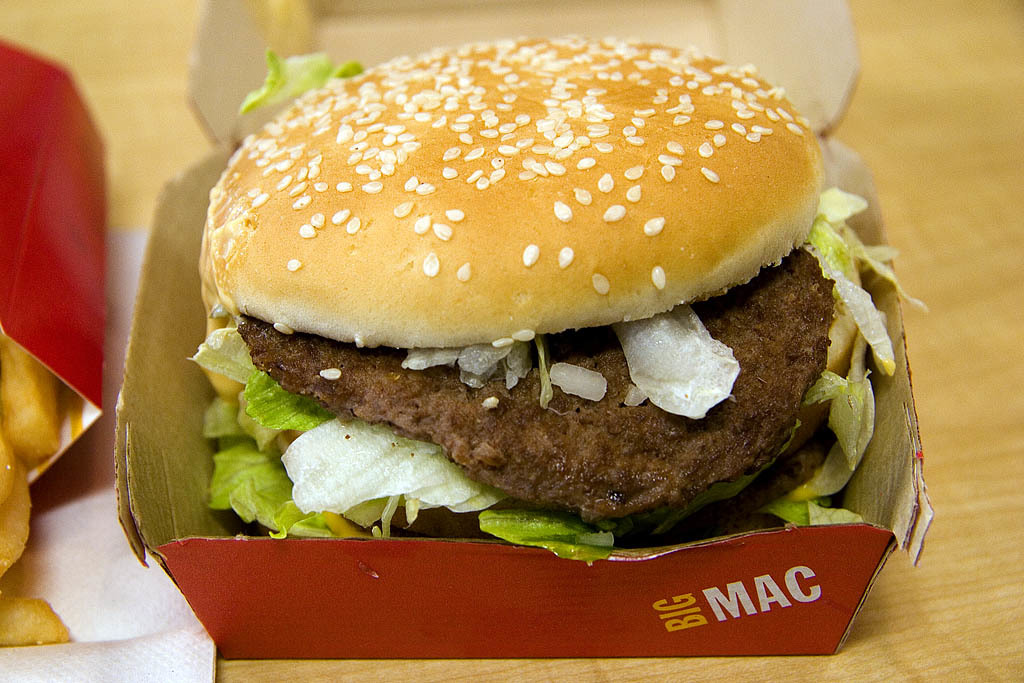Hamburger: (188, 31, 931, 564)
